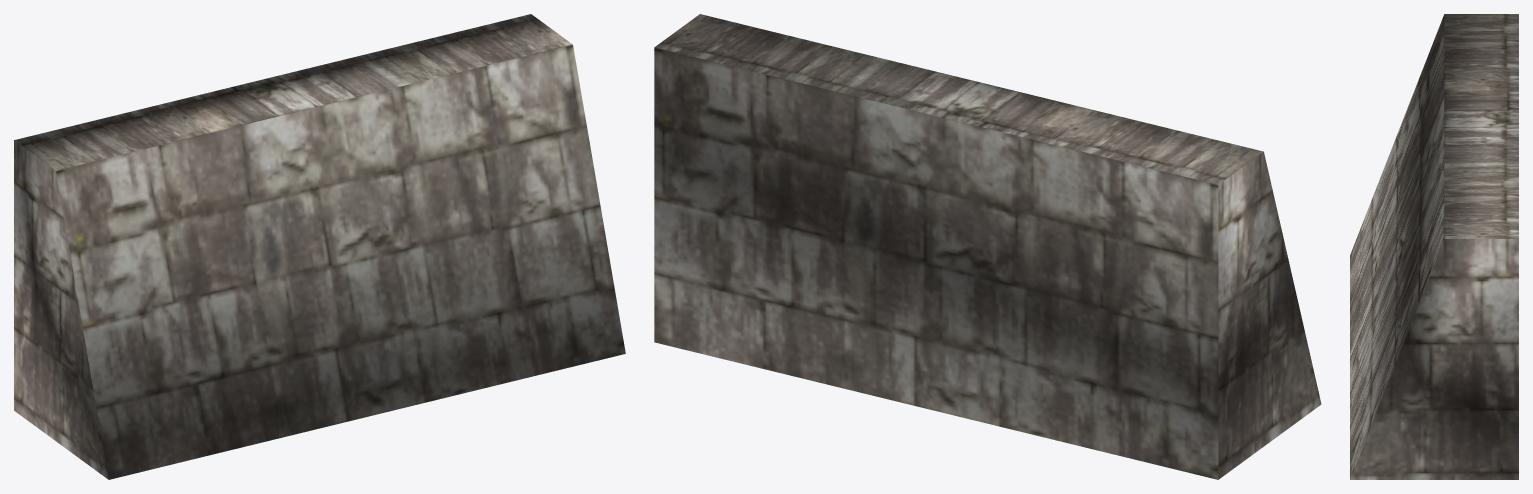
File: foundation_sm_angled.glb
3 views of the same model, side by side, from view 1: azimuth 30°, elevation 25°; view 2: azimuth 150°, elevation 25°; view 3: azimuth 270°, elevation 25° (orthographic). The views are drawn at different scales.
Visible parts, largest first — view 1: foundation_sm_angled; view 2: foundation_sm_angled; view 3: foundation_sm_angled.
Part boxes in pixels (box(x1,y1,x2,y2)): foundation_sm_angled: box(14, 14, 625, 479); foundation_sm_angled: box(654, 14, 1321, 479); foundation_sm_angled: box(1350, 14, 1518, 479).
Size of the model in its own units: 8 by 4 by 2.54.
1 material, 1 textured.
